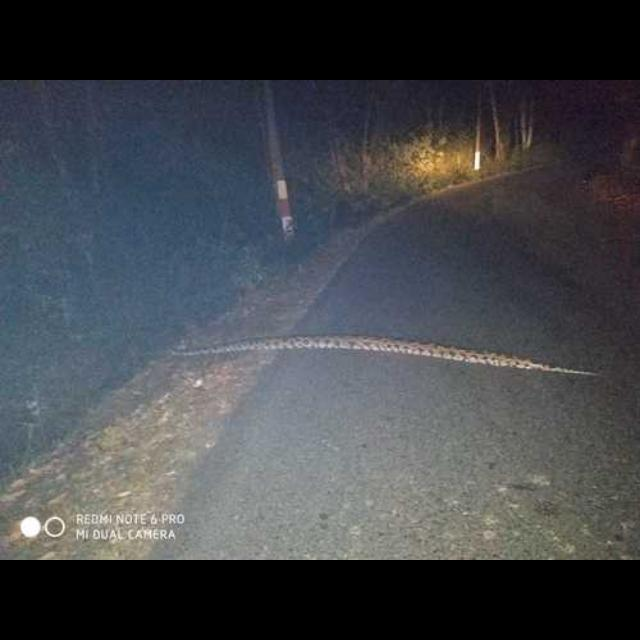snake: (170, 331, 594, 395)
